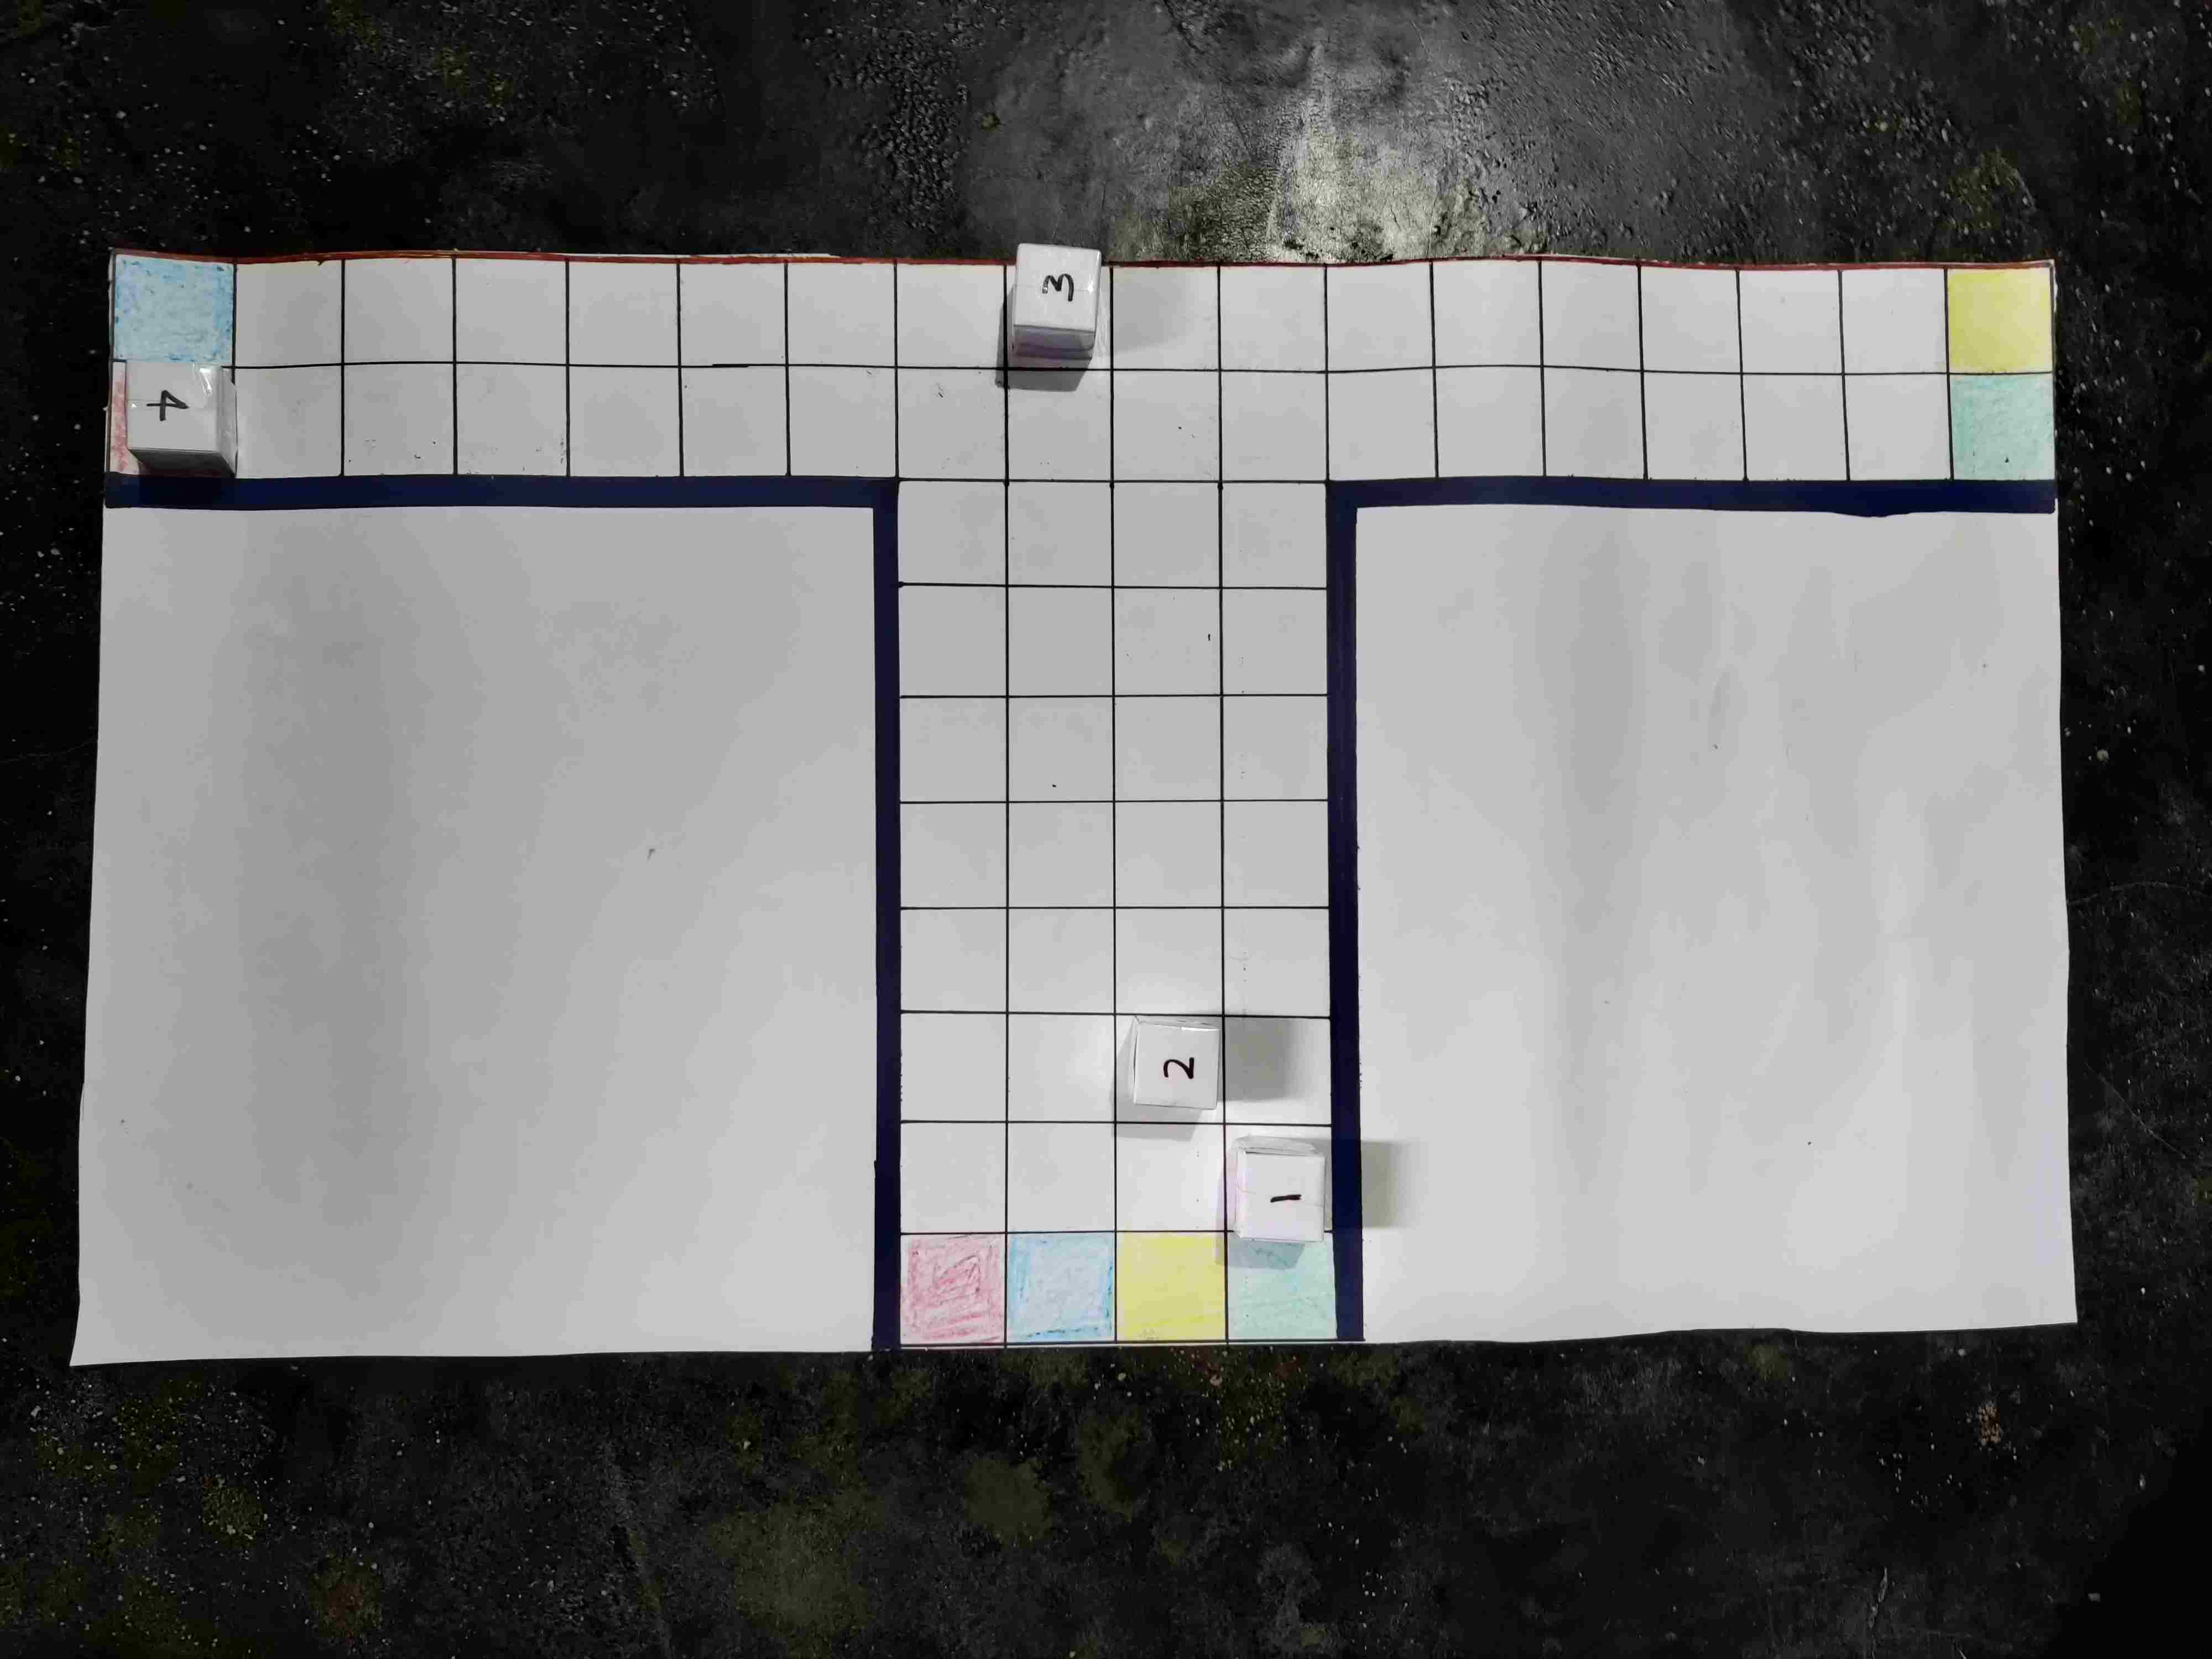arena: (5, 199, 2127, 1303)
bot: (1261, 1145, 1353, 1229), (1113, 561, 1198, 648), (900, 789, 989, 873), (1003, 326, 1087, 406)
